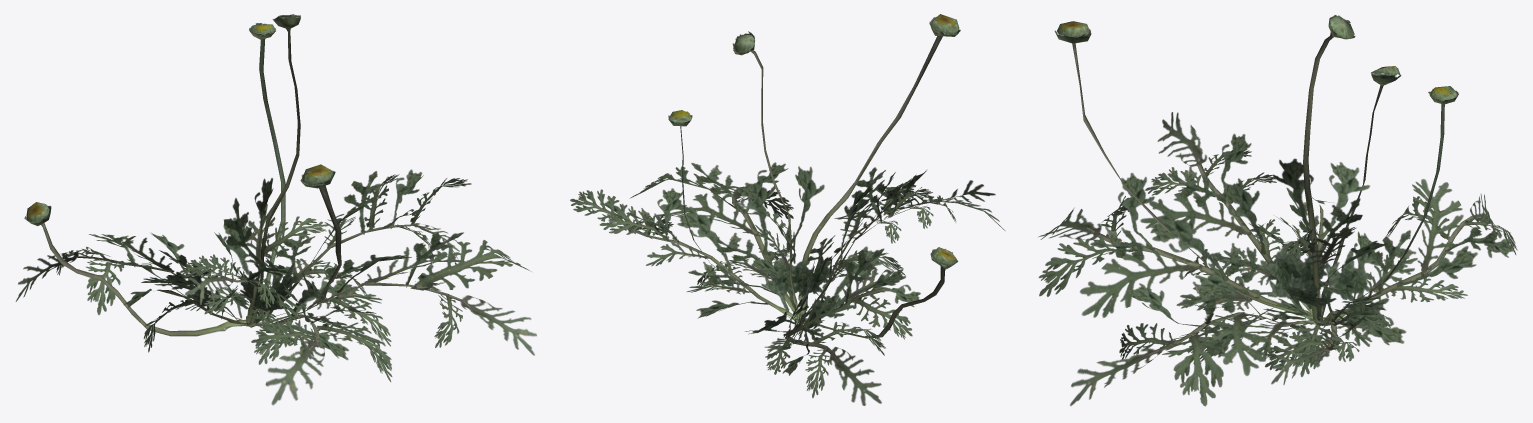
Rendered from nama_stinkkruid_c.glb.
The picture shows the model from 3 angles, left to right: view 1: azimuth 30°, elevation 25°; view 2: azimuth 150°, elevation 25°; view 3: azimuth 270°, elevation 25°; orthographic projection. The views are drawn at different scales.
Parts seen in each view (by area): view 1: nama_stinkkruid_c; view 2: nama_stinkkruid_c; view 3: nama_stinkkruid_c.
Part boxes in pixels (x1,y1,x2,y2): nama_stinkkruid_c: (16, 14, 536, 405); nama_stinkkruid_c: (570, 14, 1005, 405); nama_stinkkruid_c: (1038, 15, 1517, 406).
Bounding box in the file's own units: 0.5552 × 0.3832 × 0.4893.
Materials: 1 (1 with a texture image).
